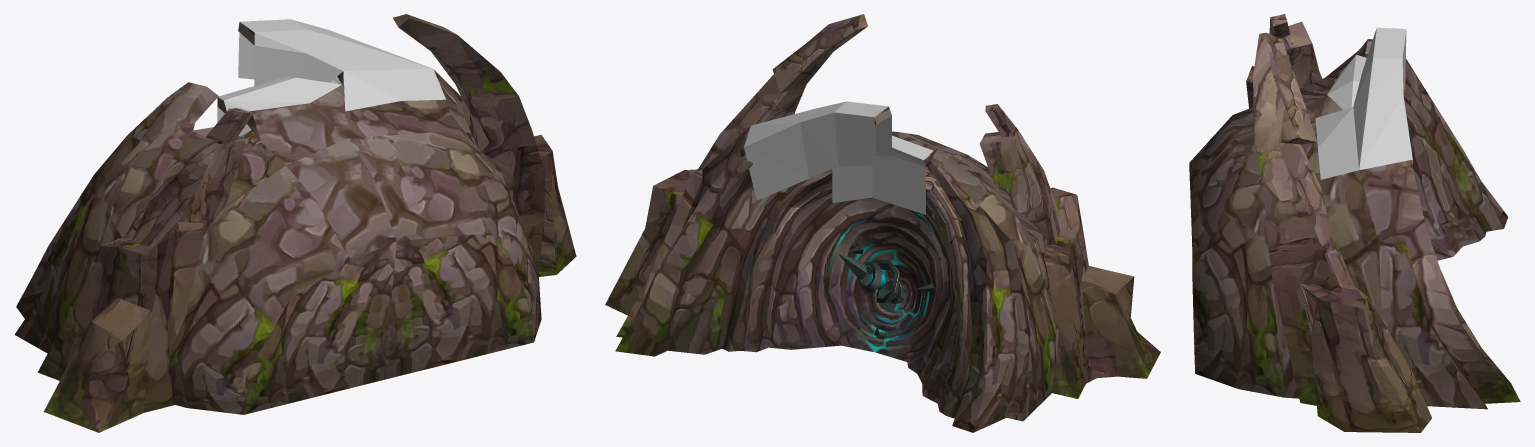
File: LM_CenterPillar03a.FBX
The picture shows the model from 3 angles, left to right: view 1: azimuth 30°, elevation 25°; view 2: azimuth 150°, elevation 25°; view 3: azimuth 270°, elevation 25°; orthographic projection. The views are drawn at different scales.
Visible parts, largest first — view 1: LM_CenterPillar03a; view 2: LM_CenterPillar03a; view 3: LM_CenterPillar03a.
Part boxes in pixels (x1,y1,x2,y2): LM_CenterPillar03a: [14, 14, 576, 432]; LM_CenterPillar03a: [605, 14, 1160, 432]; LM_CenterPillar03a: [1189, 14, 1520, 432].
Bounding box in the file's own units: 2332 × 1299 × 1285.
